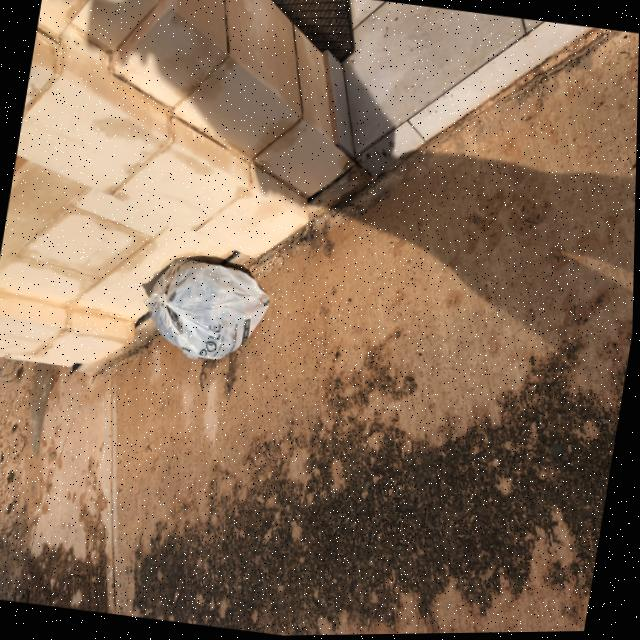Organic Waste -White Bag-: (132, 248, 283, 380)
